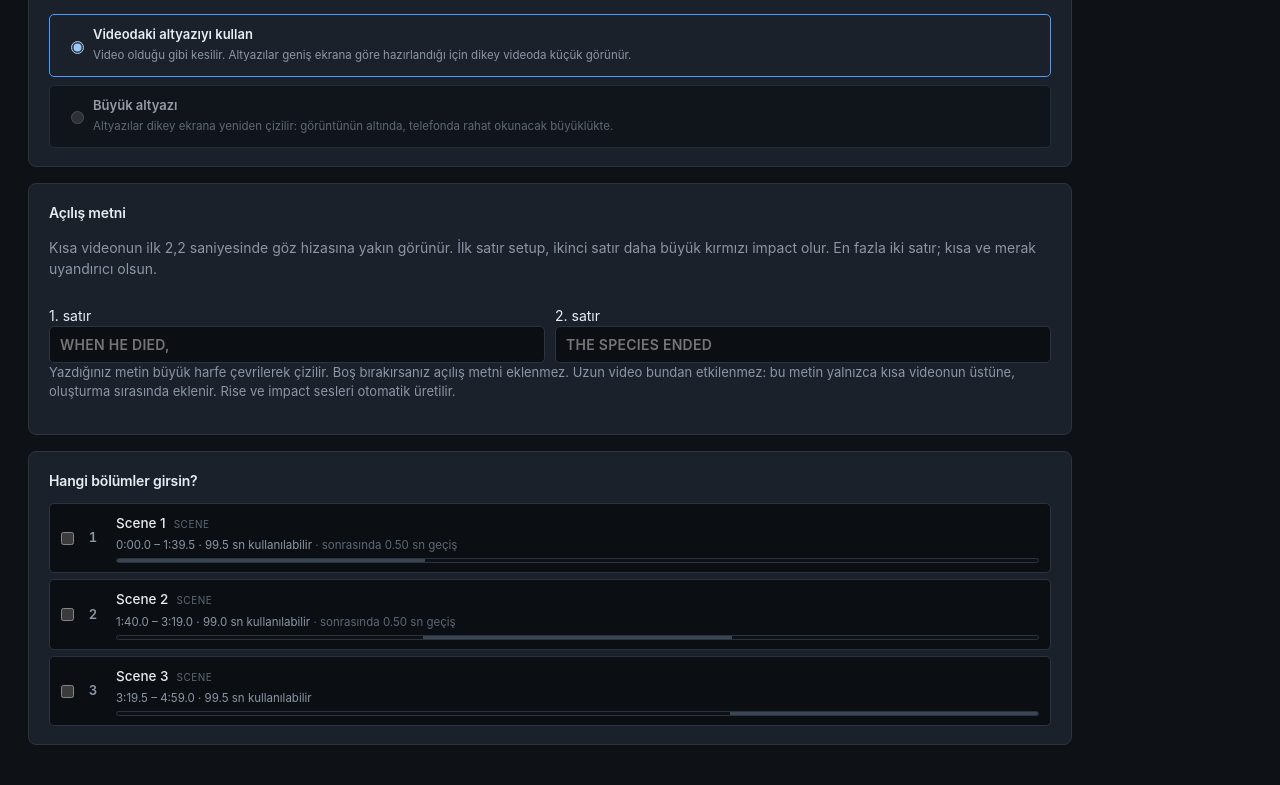
Test: ShortsPage › blocks the render past three minutes
(page scrolled)
What coordinates should you click on to do the following:
click the checkbox named "1. bölümü ekle: Scene 1"
I would click on:
 (68, 538)
Its box is [61,532,74,544].
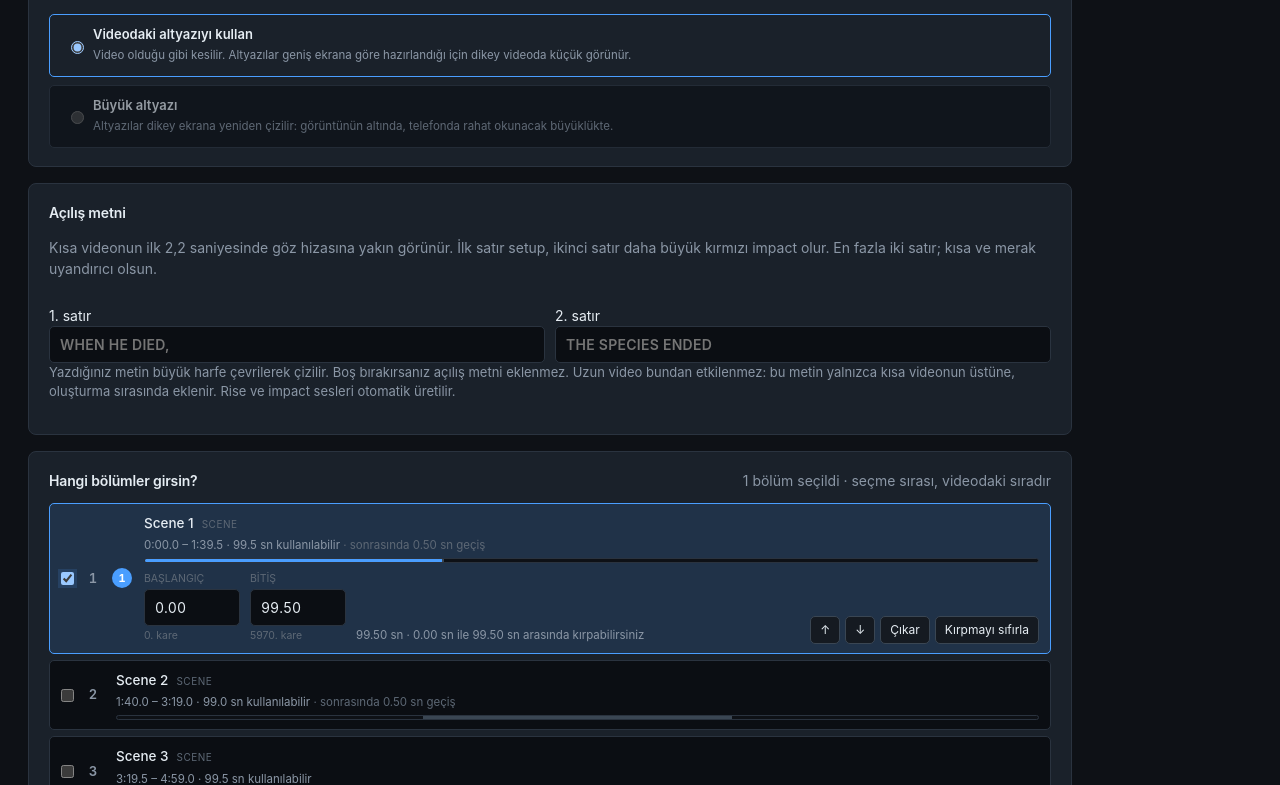
What coordinates should you click on to do the following:
click the checkbox named "2. bölümü ekle: Scene 2"
I would click on:
 (68, 695)
Its box is [61,688,74,702].
(page scrolled)
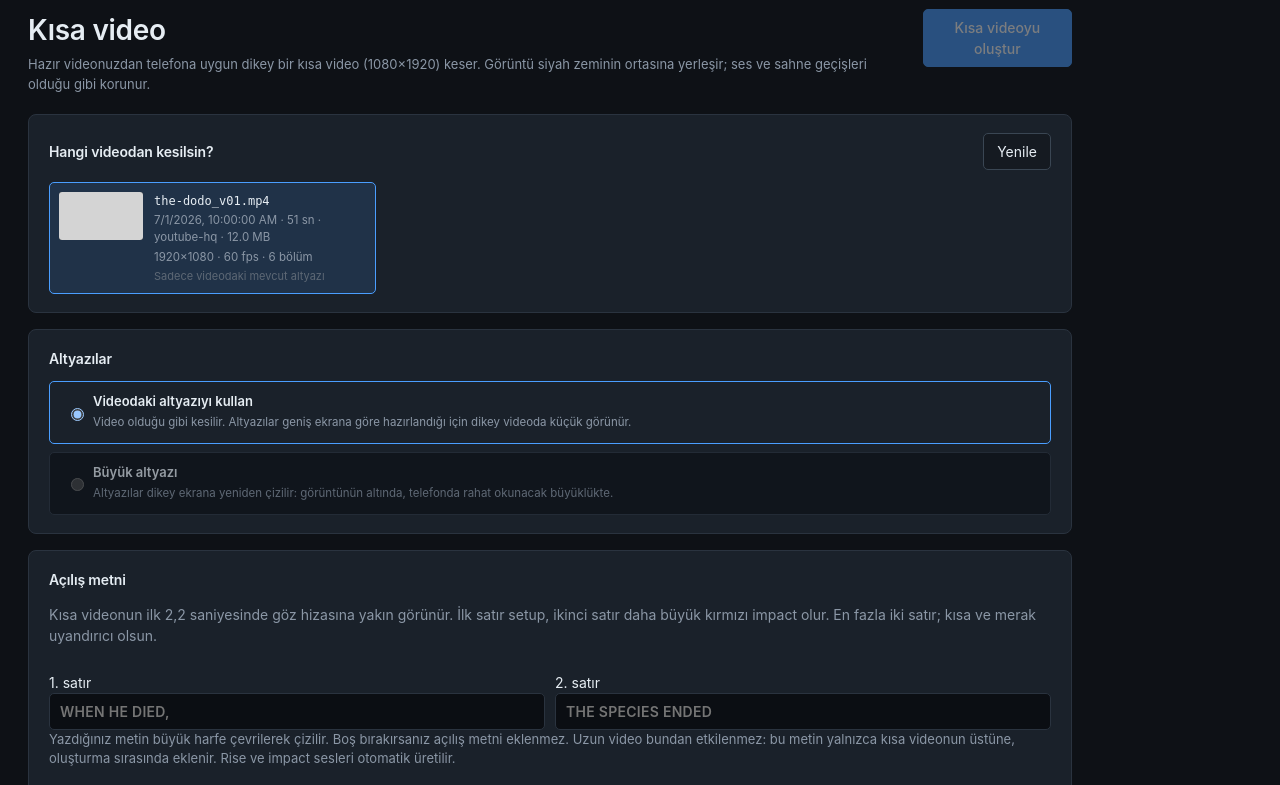
Check: the button "Kısa videoyu oluştur" is disabled, box [923,9,1072,67]
